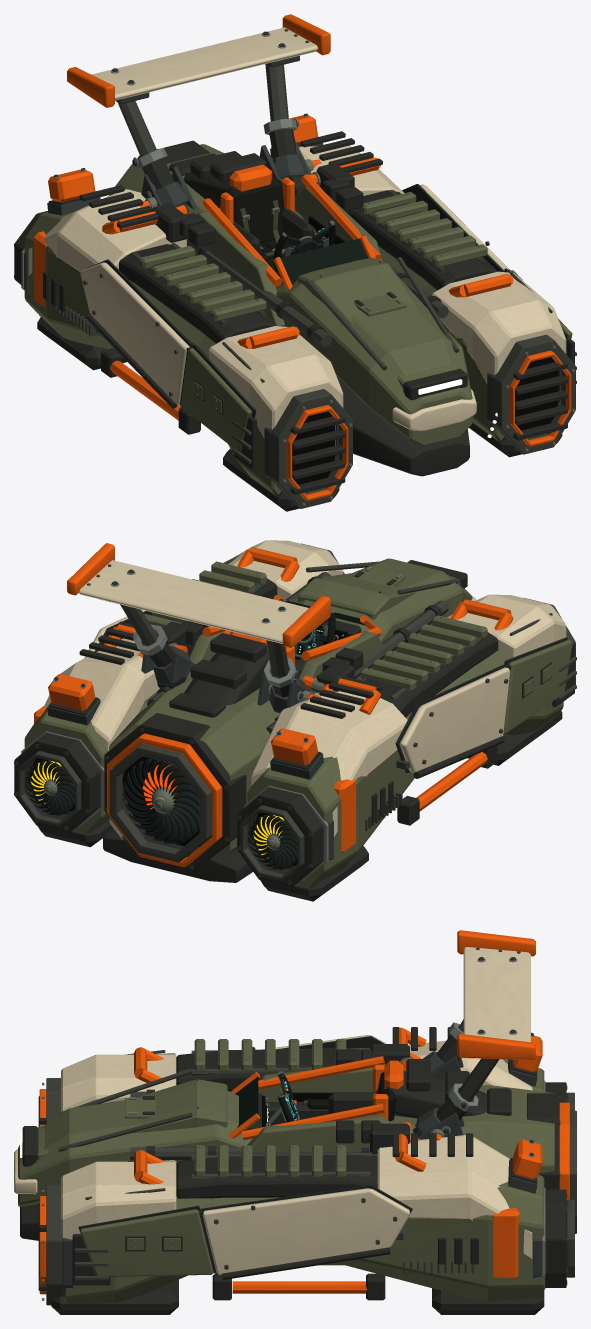
Rendered from zudoneta-037-v07.glb.
The picture shows the model from 3 angles, top to bottom: view 1: azimuth 30°, elevation 25°; view 2: azimuth 150°, elevation 25°; view 3: azimuth 270°, elevation 25°; orthographic projection.
Parts seen in each view (by area): view 1: Casco integrado pod izquierdo, Carenado central proa continuo, Casco integrado pod derecho, Panel lateral marfil, Alerón transversal marfil, Quilla estructural, Toma frontal carcasa, Toma frontal carcasa.001, Panel lateral oliva proa, Montante alerón continuo 1, Montante alerón continuo -1, Borde cabina (+46 smaller); view 2: Casco integrado pod izquierdo, Casco integrado pod derecho, Alerón transversal marfil, Carenado central proa continuo, Panel lateral marfil, Cuerpo reactor central, Tobera central estructura, Tobera central interior, Tobera lateral carcasa, Panel lateral oliva proa, Tobera lateral carcasa.001, Tobera central aro naranja (+45 smaller); view 3: Casco integrado pod derecho, Panel lateral marfil.001, Carenado central proa continuo, Casco integrado pod izquierdo, Panel lateral oliva proa.001, Alerón transversal marfil, Cuerpo reactor central, Borde cabina.001, Tobera lateral carcasa.001, Toma frontal carcasa.001, Patín delantero.001, Patín posterior.001 (+36 smaller).
Boxes of the visible parts, box(x1,y1,x2,y2) form: Casco integrado pod izquierdo: box(24, 189, 343, 495); Carenado central proa continuo: box(276, 257, 472, 445); Casco integrado pod derecho: box(270, 143, 566, 441); Panel lateral marfil: box(80, 262, 189, 405); Alerón transversal marfil: box(92, 27, 317, 100); Quilla estructural: box(336, 375, 469, 476); Toma frontal carcasa: box(264, 389, 352, 508); Toma frontal carcasa.001: box(487, 334, 575, 454); Panel lateral oliva proa: box(180, 348, 252, 451); Montante alerón continuo 1: box(265, 55, 308, 179); Montante alerón continuo -1: box(115, 92, 191, 212); Borde cabina: box(195, 211, 284, 326); Casco integrado pod izquierdo: box(247, 594, 566, 888); Casco integrado pod derecho: box(24, 540, 343, 833); Alerón transversal marfil: box(79, 560, 308, 643); Carenado central proa continuo: box(289, 558, 472, 662); Panel lateral marfil: box(399, 667, 510, 772); Cuerpo reactor central: box(109, 678, 279, 862); Tobera central estructura: box(104, 713, 246, 872); Tobera central interior: box(109, 743, 211, 862); Tobera lateral carcasa: box(237, 787, 333, 887); Panel lateral oliva proa: box(503, 640, 572, 734); Tobera lateral carcasa.001: box(14, 733, 101, 833); Tobera central aro naranja: box(107, 733, 222, 867); Casco integrado pod derecho: box(61, 1135, 544, 1303); Panel lateral marfil.001: box(202, 1188, 410, 1275); Carenado central proa continuo: box(18, 1079, 252, 1206); Casco integrado pod izquierdo: box(61, 1040, 544, 1111); Panel lateral oliva proa.001: box(80, 1209, 213, 1277); Alerón transversal marfil: box(463, 947, 530, 1042); Cuerpo reactor central: box(390, 1085, 554, 1173); Borde cabina.001: box(247, 1114, 392, 1149); Tobera lateral carcasa.001: box(533, 1189, 566, 1287); Toma frontal carcasa.001: box(46, 1185, 73, 1305); Patín delantero.001: box(51, 1279, 178, 1314); Patín posterior.001: box(432, 1288, 544, 1314).
Bounding box in the file's own units: 3.71 × 2.88 × 5.51.
Materials: 35 (32 with a texture image).
